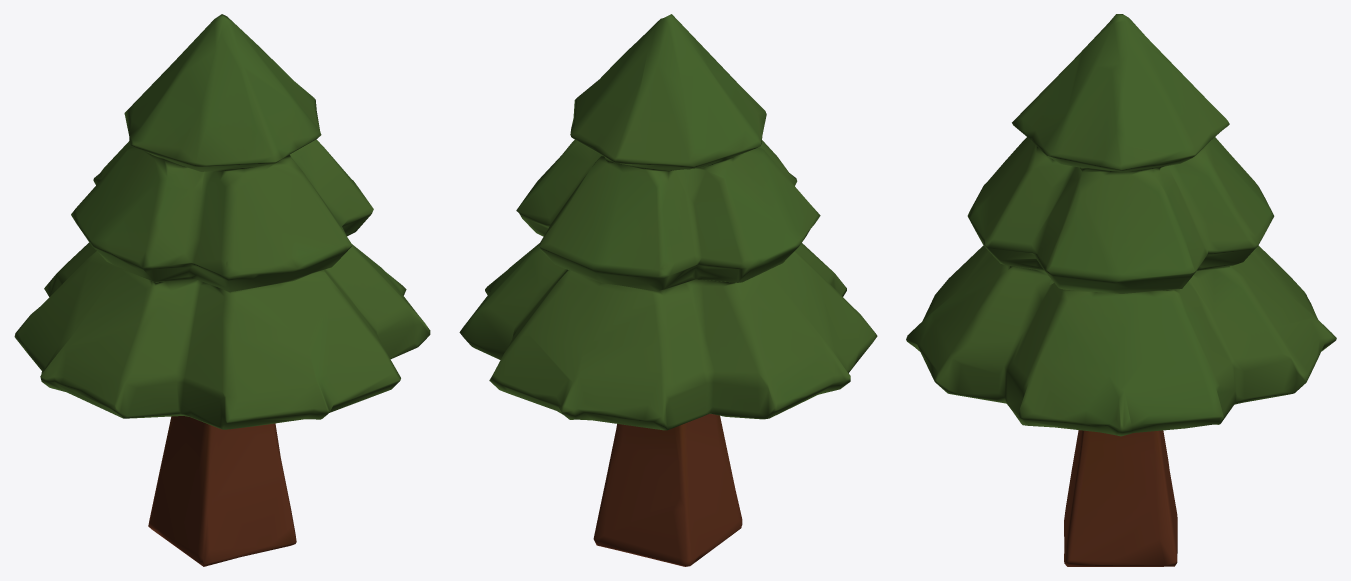
Rendered from gen3d-beech-tree-lod0.glb.
3 views of the same model, side by side, from view 1: azimuth 30°, elevation 25°; view 2: azimuth 150°, elevation 25°; view 3: azimuth 270°, elevation 25° (orthographic).
Parts seen in each view (by area): view 1: part_0; view 2: part_0; view 3: part_0.
Part boxes in pixels (x1=…): part_0: x1=14, y1=14, x2=430, y2=566; part_0: x1=459, y1=14, x2=877, y2=566; part_0: x1=906, y1=14, x2=1336, y2=566.
Size of the model in its own units: 0.7337 by 0.9992 by 0.7363.
